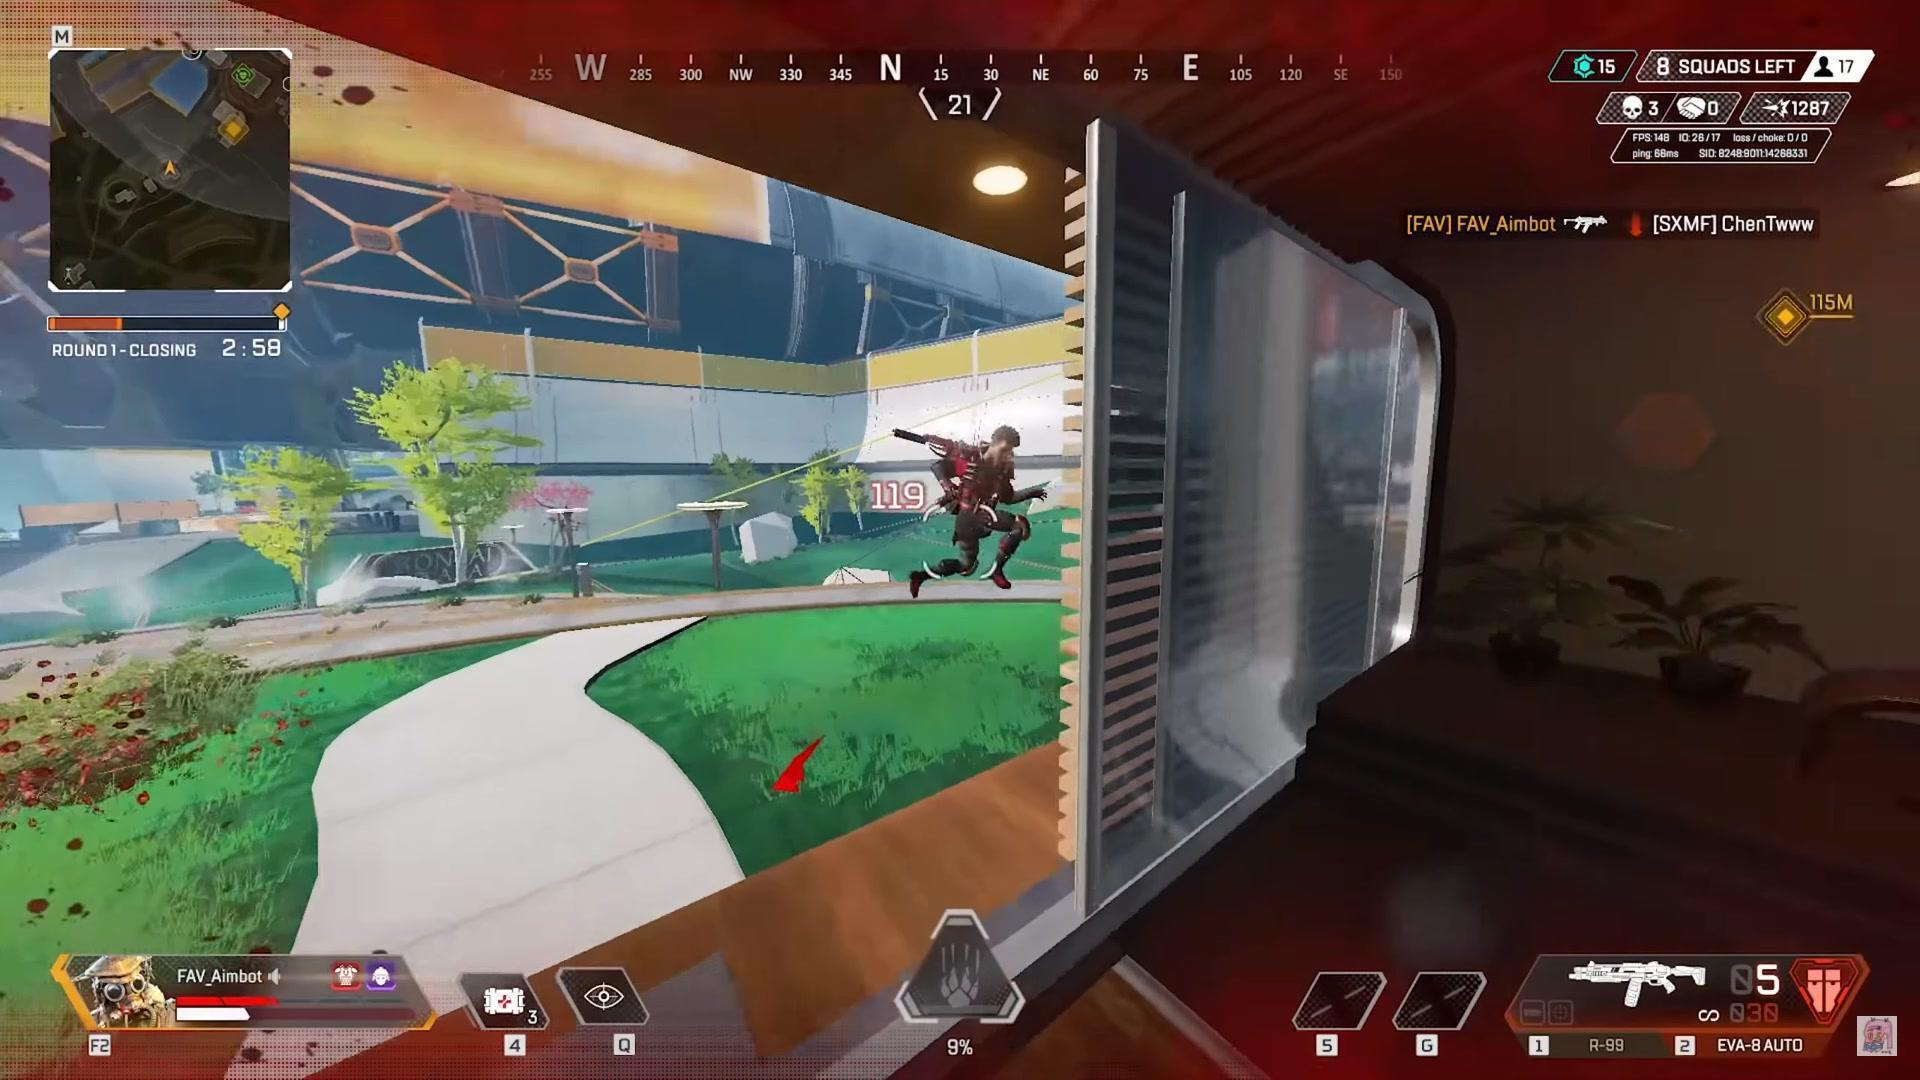avatar: (929, 423, 1033, 591)
